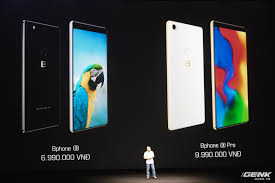bphone: (67, 18, 112, 136), (20, 16, 65, 134), (162, 16, 207, 134), (207, 15, 252, 133)
